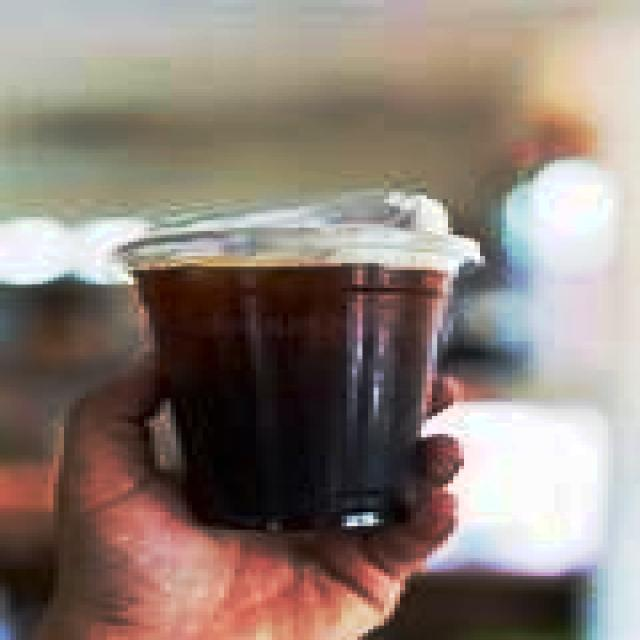drink: (121, 253, 454, 523)
